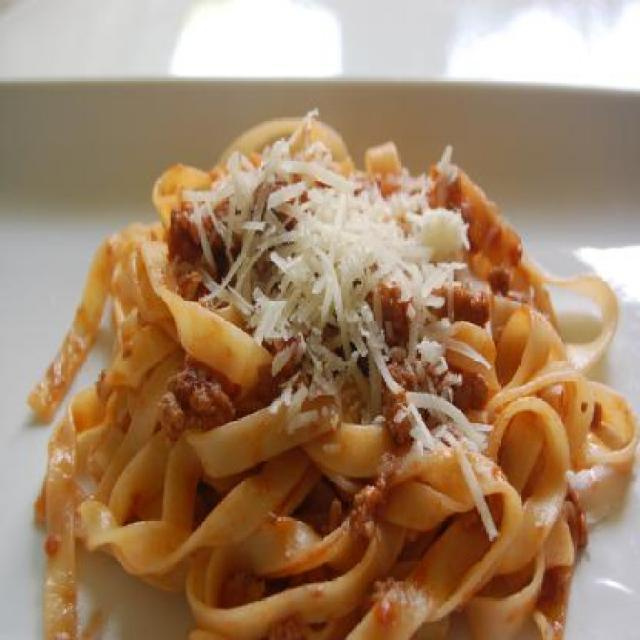Pasta al ragu: (57, 63, 616, 620)
